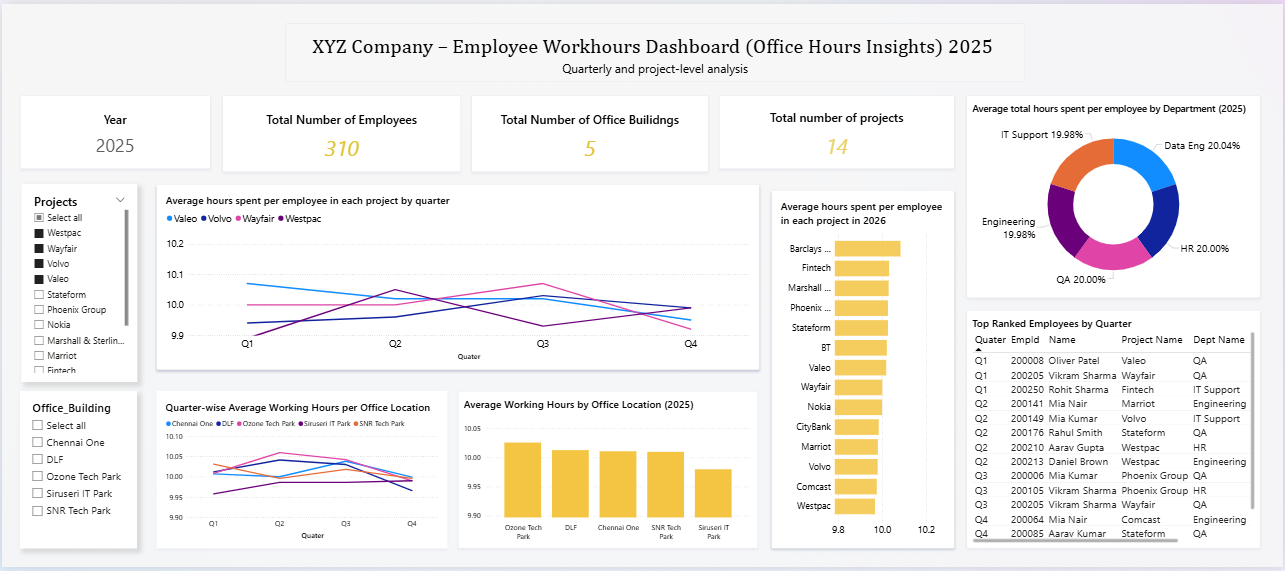

The dashboard page shown, as its layout file describes it:
{"tool":"powerbi","page":{"name":"Page 1","canvas":[2850,1250],"ordinal":0},"visuals":[{"type":"lineChart","title":"Average hours spent per employee in each project by quarter","fields":{"Category":["Avg hours per project with quarter.Quater"],"Series":["Avg hours per project with quarter.Project"],"Y":["Avg(Avg hours per project with quarter.Avg Hours of Employee)"]},"box":[343.3,400,1340,413.3],"z":0},{"type":"slicer","title":" Avg hours of employees per project in 2025","fields":{"Values":["Projects_Slicer.Proejcts"]},"box":[42.5,400,257.5,440],"z":1000},{"type":"clusteredBarChart","title":"Average hours spent per employee in each project in 2026","fields":{"Category":["2026-Avg hours of emp per proj.Proejcts"],"Y":["Avg(2026-Avg hours of emp per proj.Avg hours of employees)"]},"box":[1710,413.3,406.7,796.7],"z":2000},{"type":"lineChart","title":"Quarter‑wise Average Working Hours per Office Location","fields":{"Category":["Avg hours of emp per build per quater.Quater"],"Y":["Avg(Avg hours of emp per build per quater.Avg hours of Employees)"],"Series":["Avg hours of emp per build per quater.Office"]},"box":[343.3,860,646.7,350],"z":3000},{"type":"columnChart","title":"Average Working Hours by Office Location (2025)","fields":{"Category":["2026-Avg hours of emp per loc.Office_Building"],"Y":["Avg(2026-Avg hours of emp per loc.Average hours of Employees)"]},"box":[1013.3,860,666.7,350],"z":4000},{"type":"slicer","fields":{"Values":["Table 2.Office_Building"]},"box":[40,860,260,350],"z":5000},{"type":"card","fields":{"Values":["2026-Avg hours of emp per loc.Manual KPI Text"]},"box":[490,203.3,530,170],"z":6000},{"type":"card","fields":{"Values":["2026-Avg hours of emp per loc.10"]},"box":[1593.3,203.3,523.3,163.3],"z":7000},{"type":"card","fields":{"Values":["2026-Avg hours of emp per loc.5"]},"box":[1043.3,203.3,526.7,170],"z":8000},{"type":"card","fields":{"Values":["2026-Avg hours of emp per loc.2025"]},"box":[40,203.3,423.3,163.3],"z":9000},{"type":"card","fields":{"Values":["2026-Avg hours of emp per loc.Dashboard Title"]},"box":[630,43.3,1643.3,130],"z":10000},{"type":"donutChart","title":"Average total hours spent per employee by Department (2025)","fields":{"Category":["Avg per dept.Column1"],"Y":["Avg(Avg per dept.Column2)"]},"box":[2143.3,203.3,653.3,450],"z":11000},{"type":"tableEx","title":" Top Ranked Employees by Quarter","fields":{"Values":["Rankemp.Quater","Rankemp.EmpId","Rankemp.Name","Rankemp.Project Name","Rankemp.Dept Name","Rankemp.Average Hours","Rankemp.Rank"]},"box":[2143.3,680,653.3,530],"z":12000}]}

Visuals, with their boxes in screenshot pixels (x1, y1, x2, y2), scaled from the page's 2850x1250 canvas onto the 1285x571 screenshot:
"Average hours spent per employee in each project by quarter" lineChart: (155, 183, 759, 372)
" Avg hours of employees per project in 2025" slicer: (19, 183, 135, 384)
"Average hours spent per employee in each project in 2026" clusteredBarChart: (771, 189, 954, 553)
"Quarter‑wise Average Working Hours per Office Location" lineChart: (155, 393, 446, 553)
"Average Working Hours by Office Location (2025)" columnChart: (457, 393, 757, 553)
slicer - Table 2.Office_Building: (18, 393, 135, 553)
card - 2026-Avg hours of emp per loc.Manual KPI Text: (221, 93, 460, 171)
card - 2026-Avg hours of emp per loc.10: (718, 93, 954, 167)
card - 2026-Avg hours of emp per loc.5: (470, 93, 708, 171)
card - 2026-Avg hours of emp per loc.2025: (18, 93, 209, 167)
card - 2026-Avg hours of emp per loc.Dashboard Title: (284, 20, 1025, 79)
"Average total hours spent per employee by Department (2025)" donutChart: (966, 93, 1261, 298)
" Top Ranked Employees by Quarter" tableEx: (966, 311, 1261, 553)
